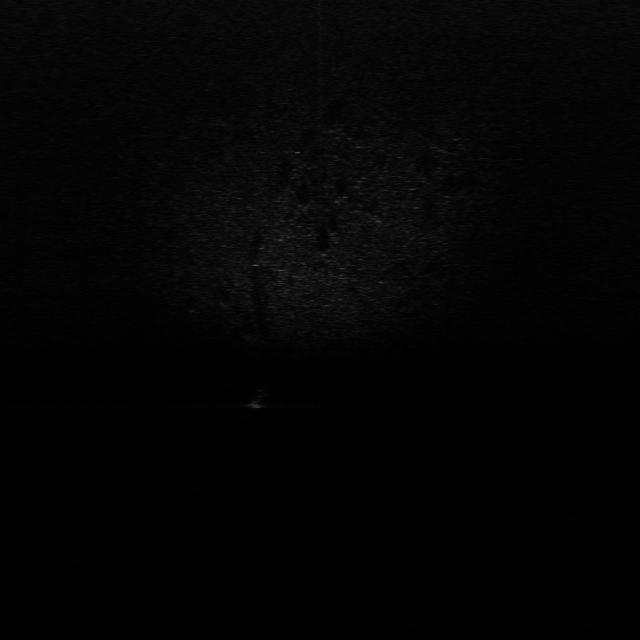human body: (239, 382, 277, 418)
